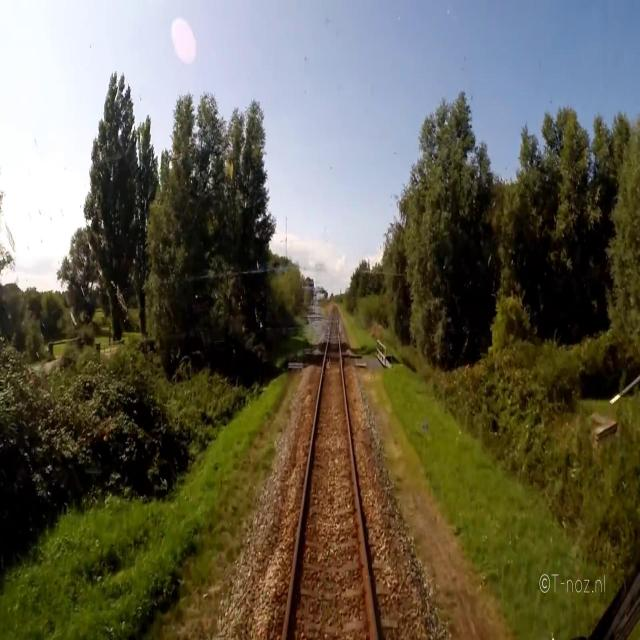rail-track: (287, 306, 373, 639)
